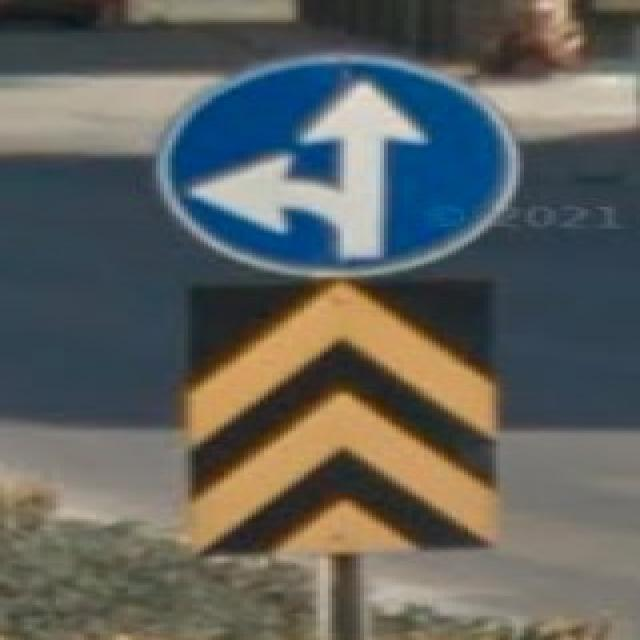Straight or Left: (155, 55, 519, 279)
